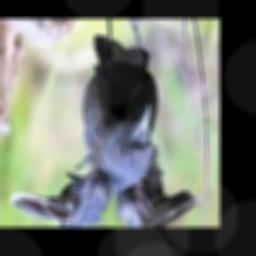Crow: (8, 19, 200, 227)
